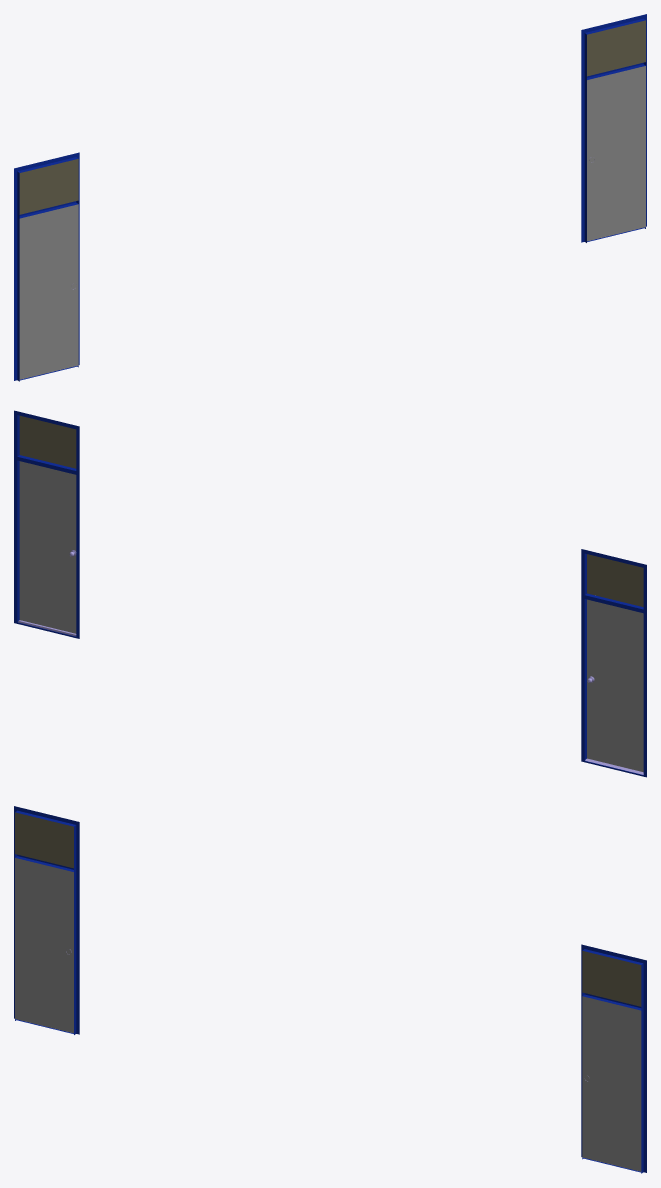
The model's file is door.fbx.
3 views of the same model, one above another, from view 1: azimuth 30°, elevation 25°; view 2: azimuth 150°, elevation 25°; view 3: azimuth 330°, elevation 25° (orthographic).
Parts seen in each view (by area): view 1: Object122; view 2: Object122; view 3: Object122.
Boxes of the visible parts, <box> form: Object122: <box>14,14,646,381</box>; Object122: <box>14,410,646,777</box>; Object122: <box>14,806,646,1173</box>.
Size of the model in its own units: 8.53 by 2.74 by 0.0717.
